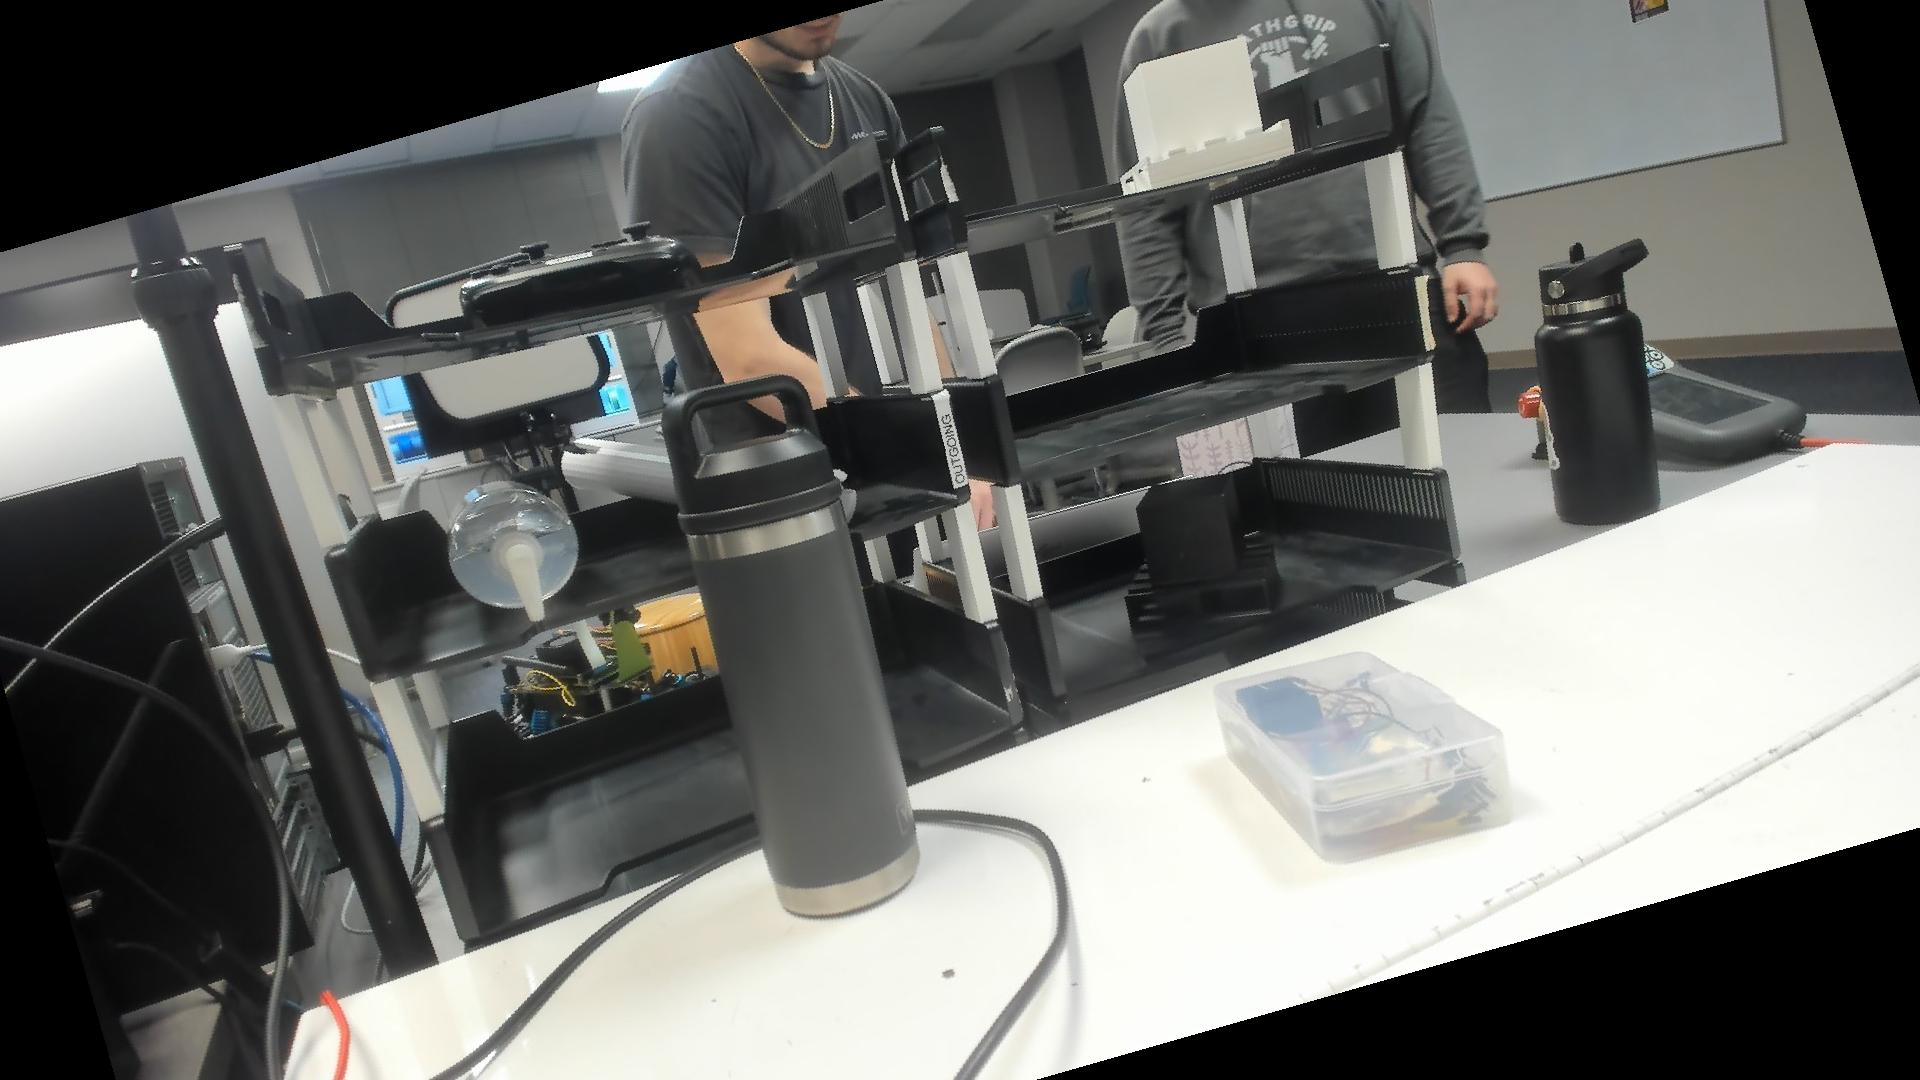black pallet: (1120, 471, 1288, 640)
white pallet: (1118, 32, 1302, 199)
